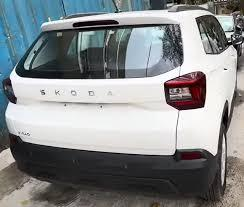skoda: (37, 82, 113, 99)
